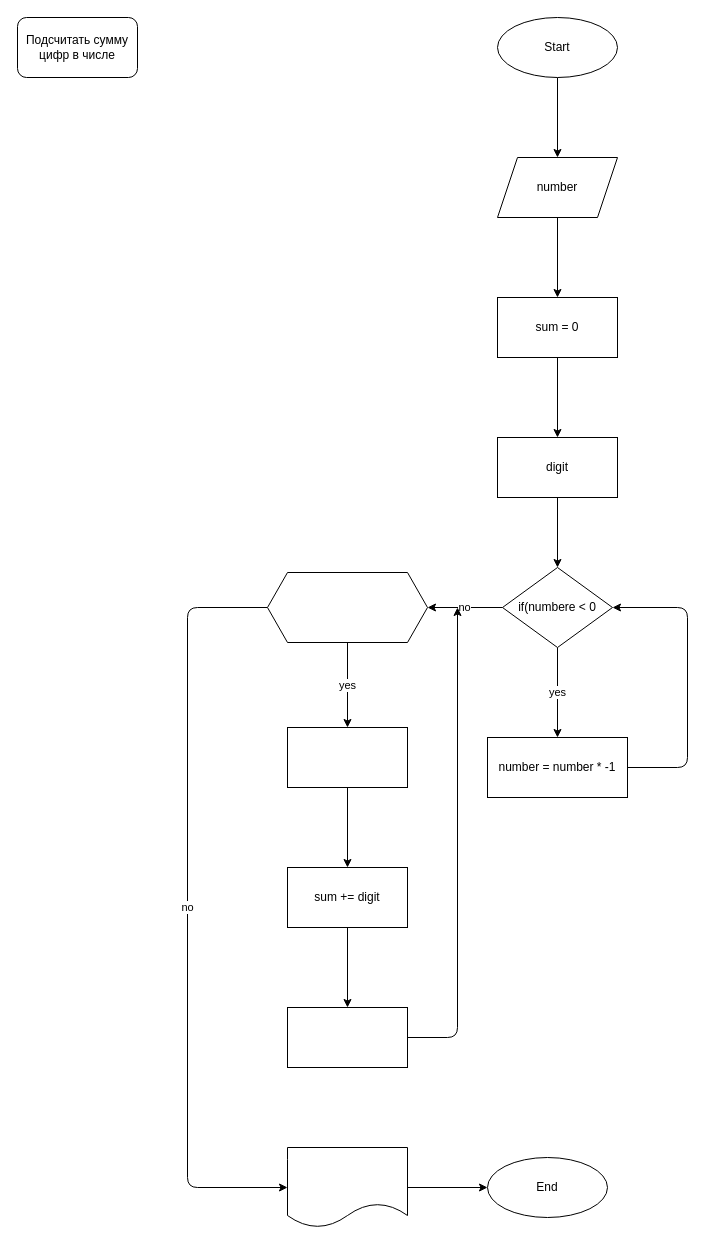
Some shapes in this 713 by 1245 pixel diagram are drawn without their labels. Each missing label, with the centre of its shape:
digit = number % 10: [347,757]
for(i = 0; number > 0; i++): [347,607]
number /= 10: [347,1037]
Print sum: [347,1187]
